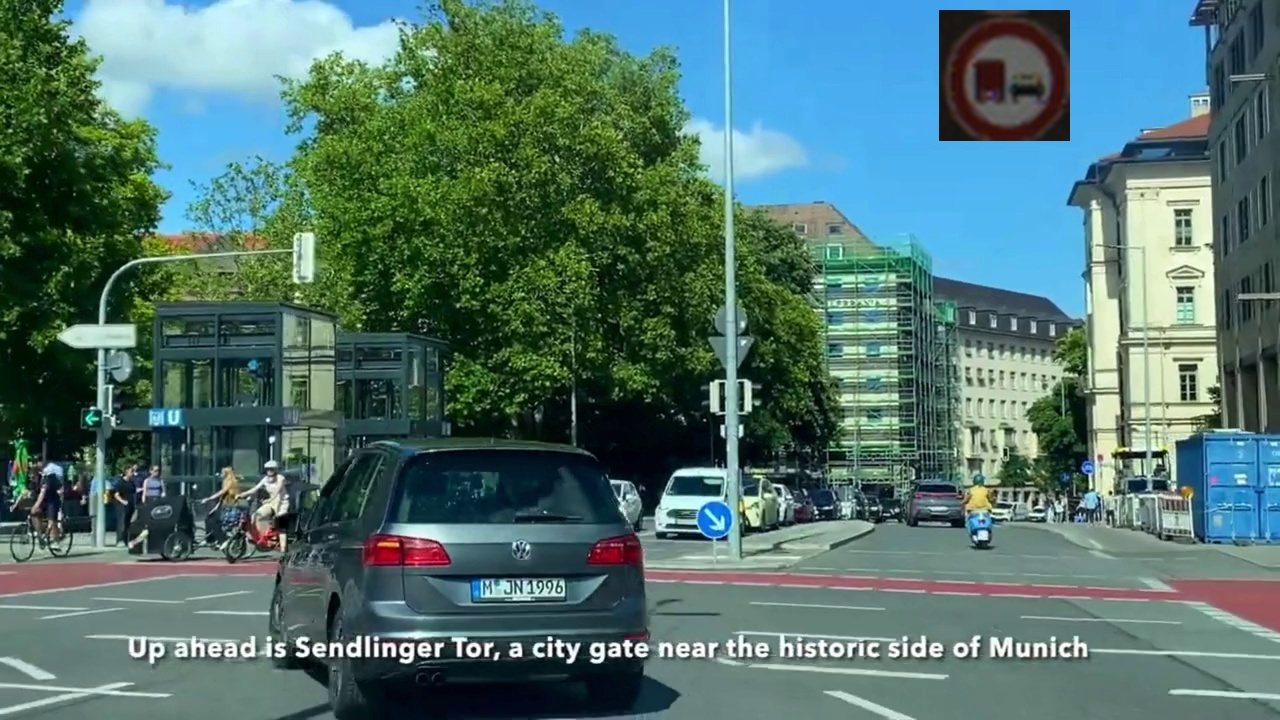No pass >3.5t: (939, 10, 1070, 141)
